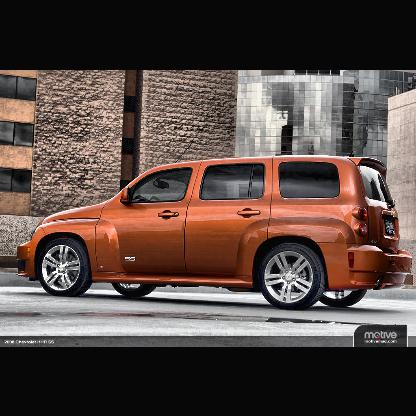Chevrolet HHR SS 2010: (14, 155, 413, 309)
